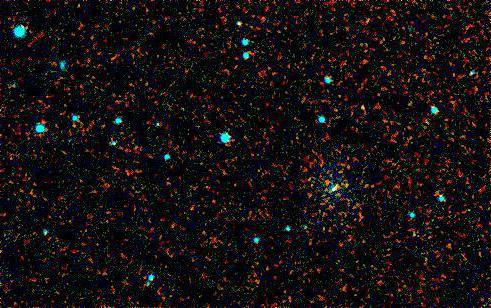star: (413, 111, 443, 141)
